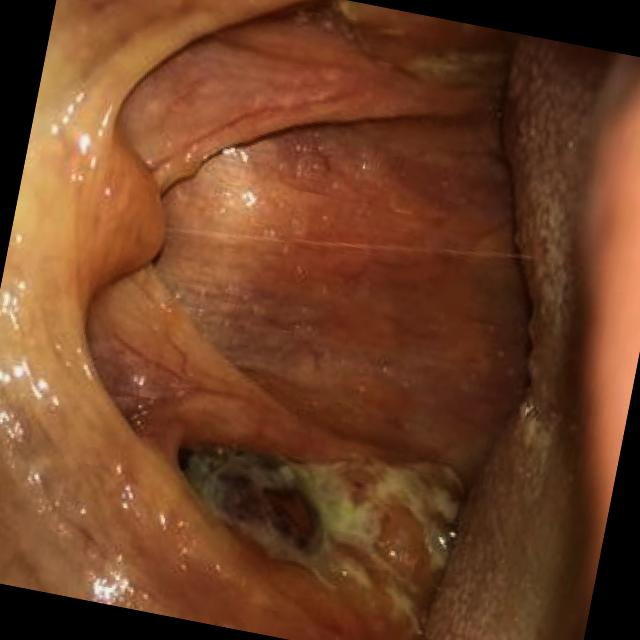pharyngitis: (112, 420, 462, 640), (285, 0, 508, 139)
